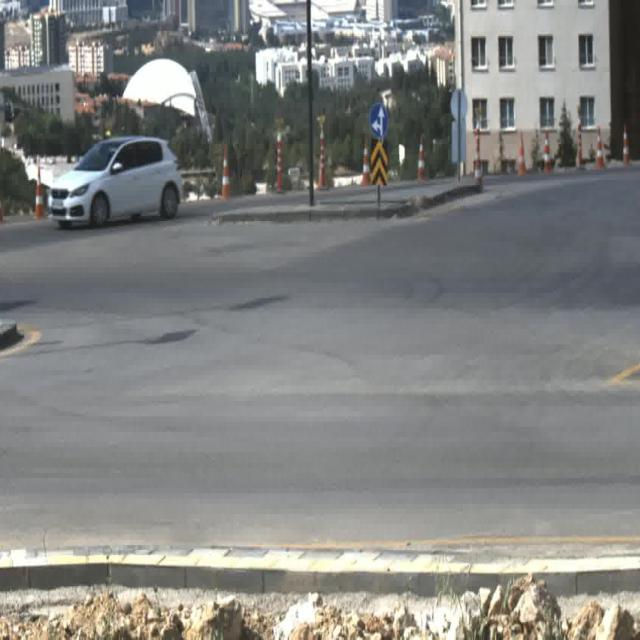Car: (47, 134, 183, 230)
